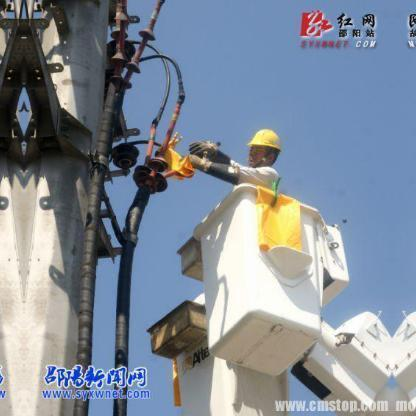helmet: (248, 128, 282, 153)
